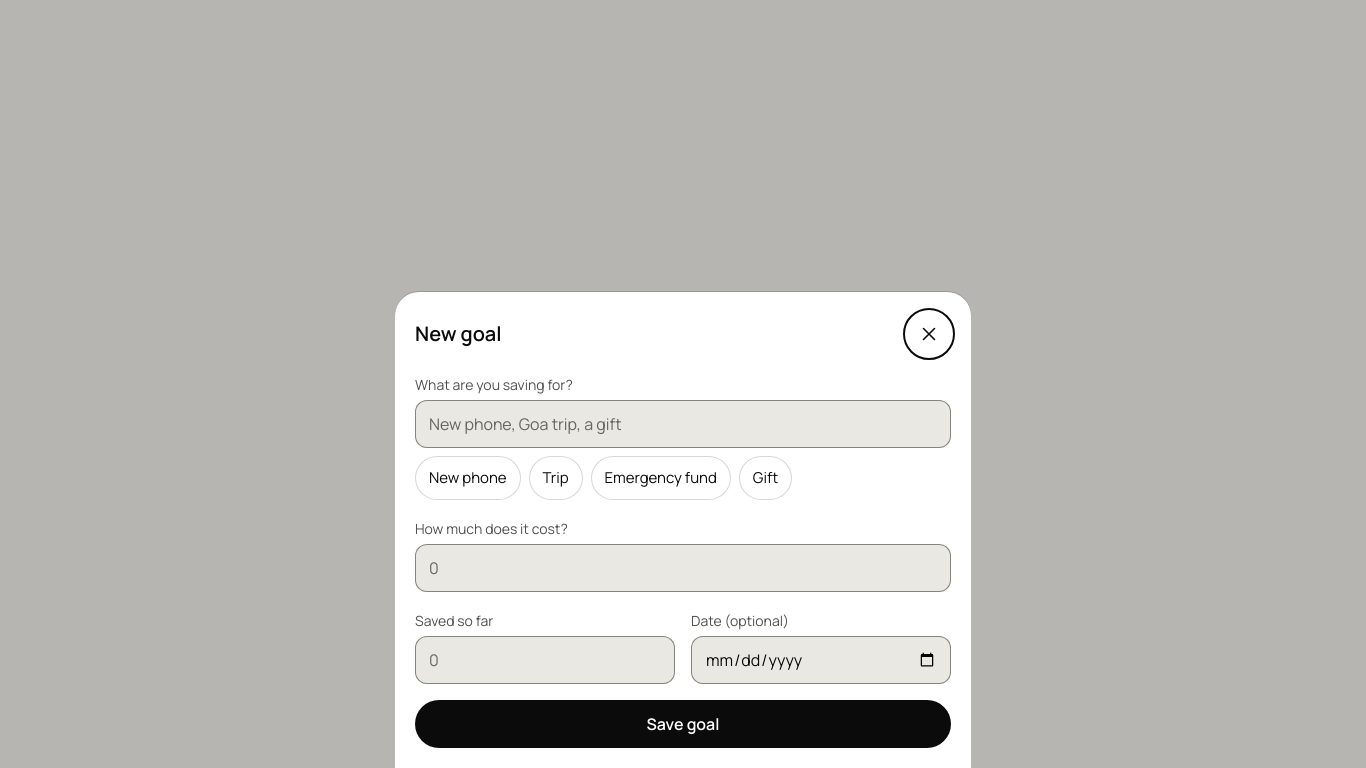
Test: GoalSheet: making a goal › refuses a negative saved amount, says why, and saves nothing
Type "Trip" into the field labelled "What are you saving for?" at (683, 424), box top-left (415, 400), bottom-right (951, 448)
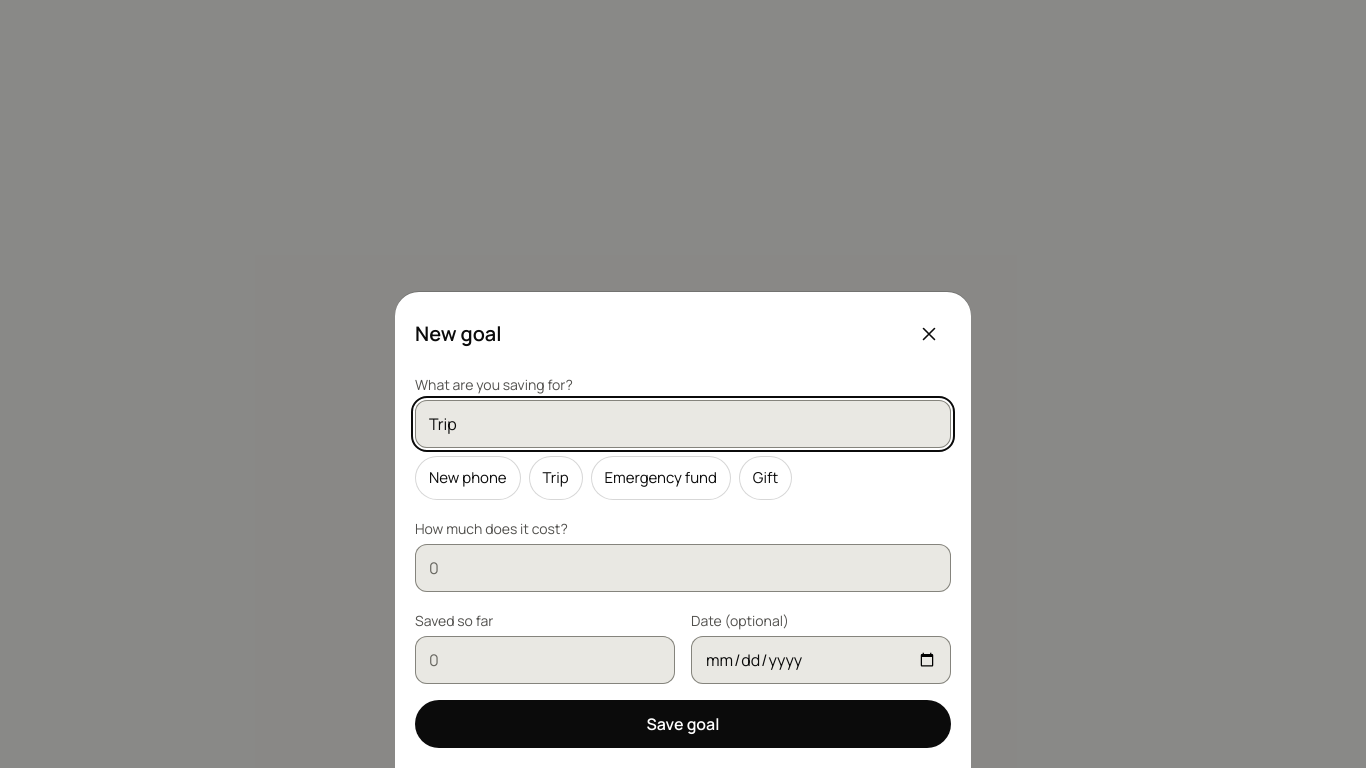
Type "500" into the field labelled "How much does it cost?" at (683, 568), box top-left (415, 544), bottom-right (951, 592)
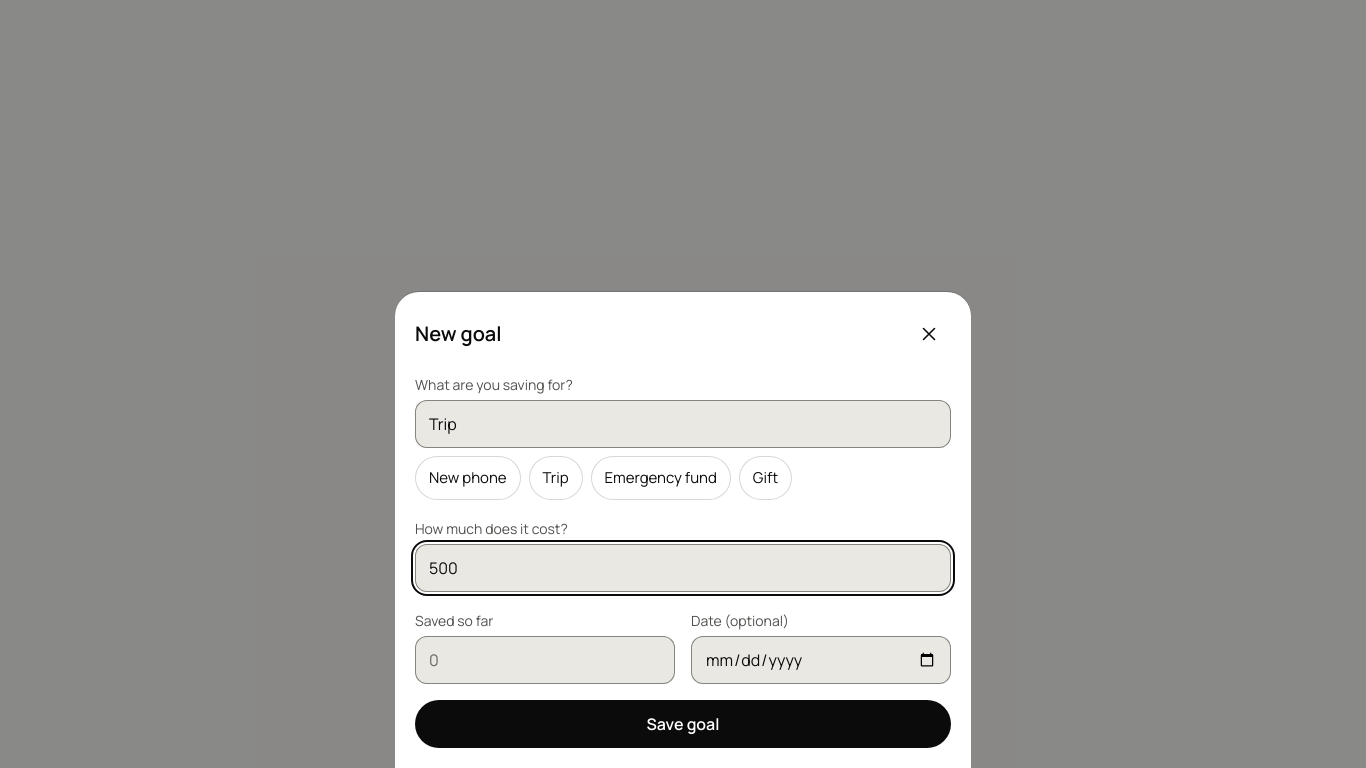
Type "-5" into the field labelled "Saved so far" at (545, 660), box top-left (415, 636), bottom-right (675, 684)
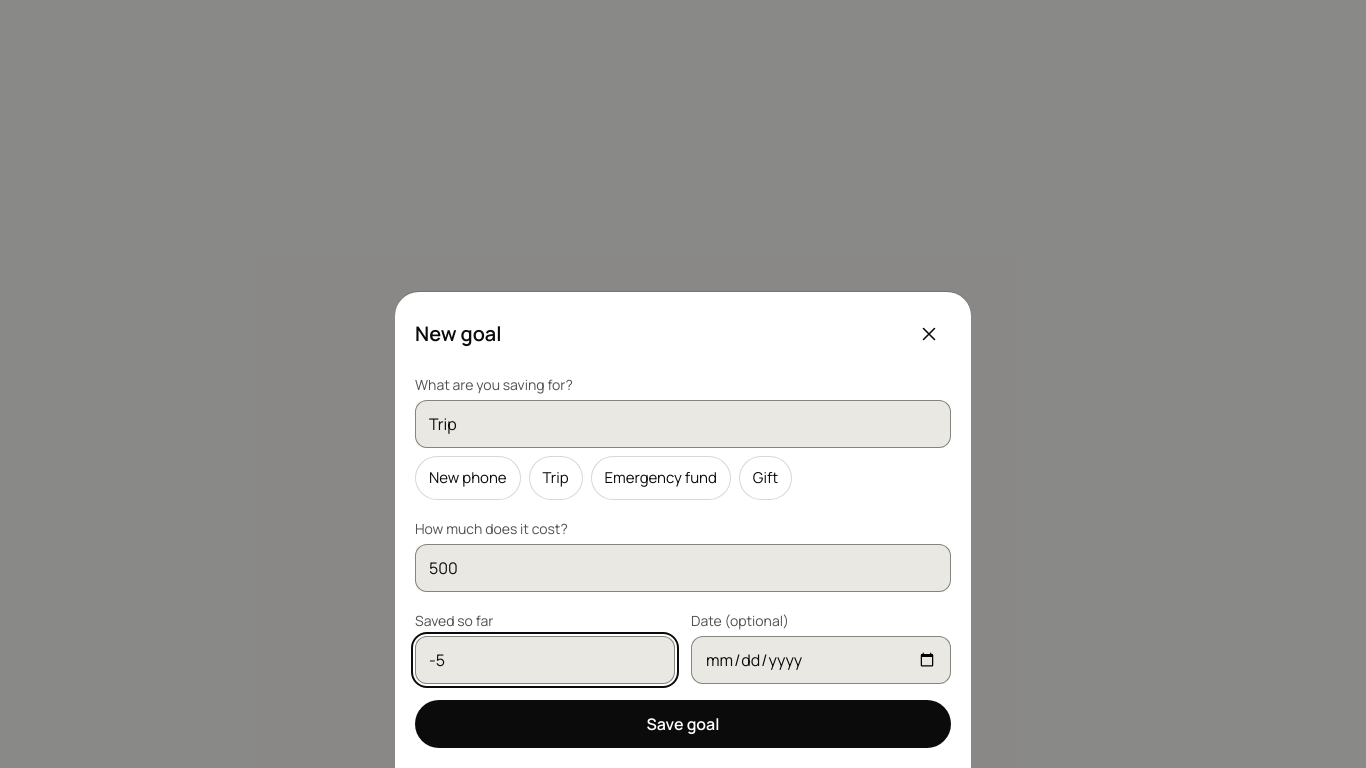
Click the button "Save goal" at (683, 724), box top-left (415, 700), bottom-right (951, 748)
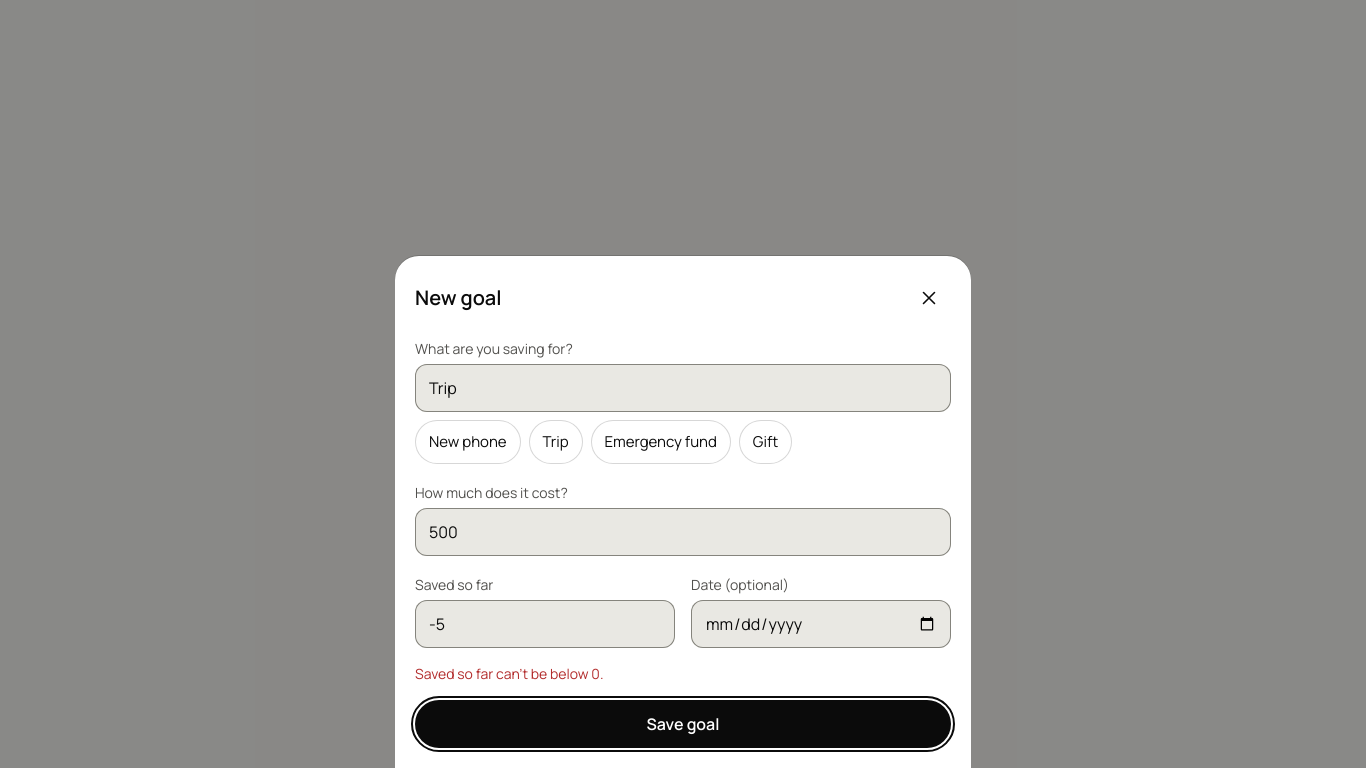
Now the message reads "Saved so far can’t be below 0.", box top-left (415, 664), bottom-right (603, 683)
